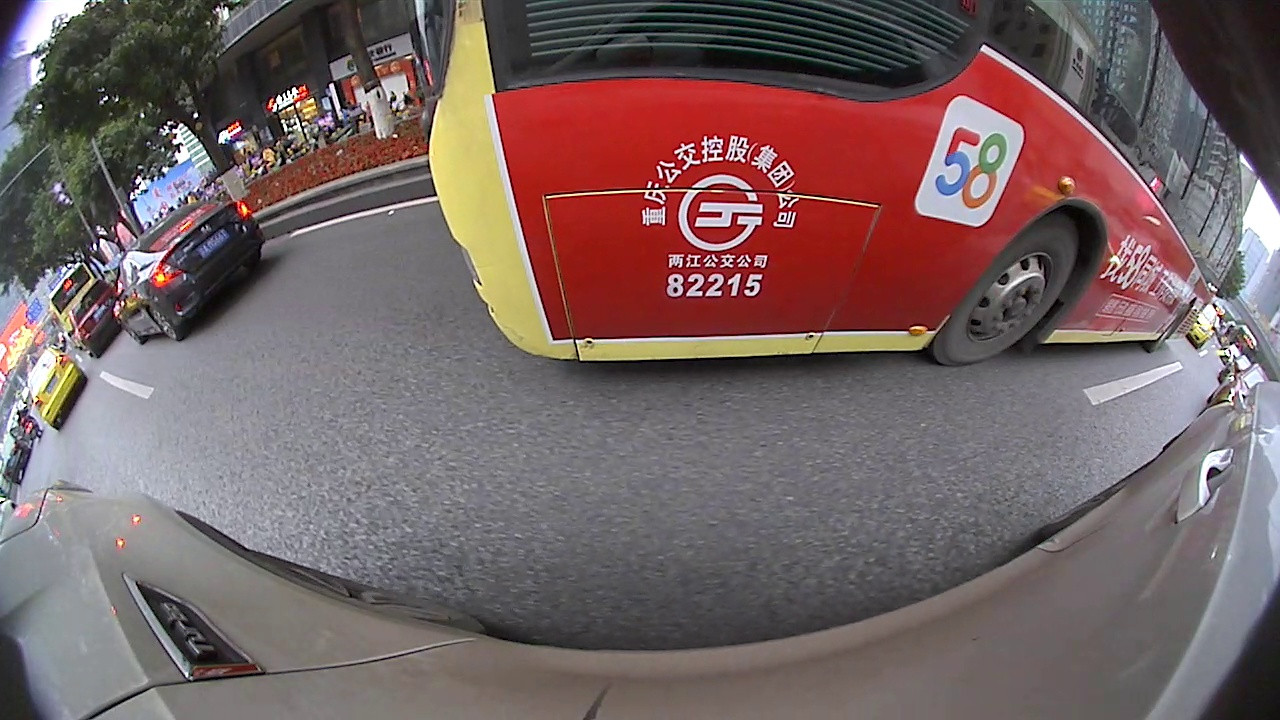bus: (412, 2, 1252, 373)
car: (109, 193, 269, 346), (21, 339, 90, 433), (61, 276, 134, 358)
front: (922, 214, 1084, 368), (120, 322, 149, 347)
rear: (1145, 300, 1195, 355), (145, 304, 187, 344)
